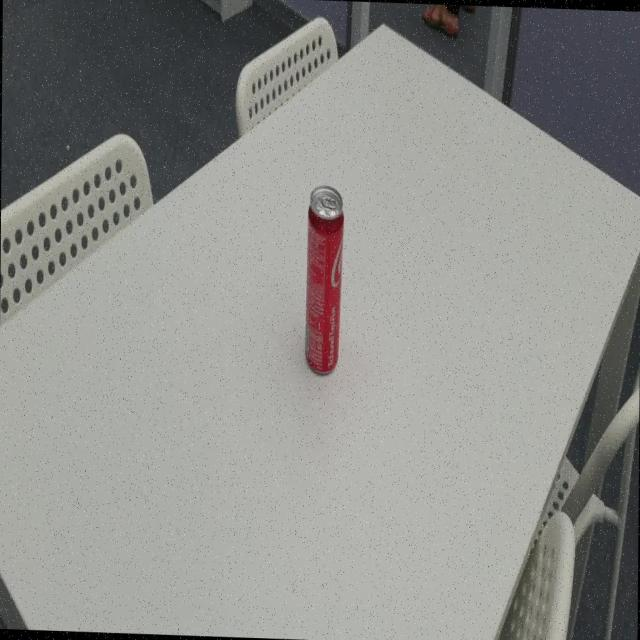coca-cola: (302, 180, 346, 382)
